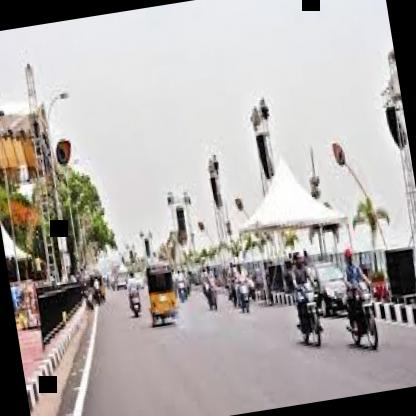car: (331, 223, 387, 363), (296, 248, 376, 338), (278, 239, 328, 350), (141, 253, 188, 348), (116, 272, 150, 324), (229, 260, 259, 318)
